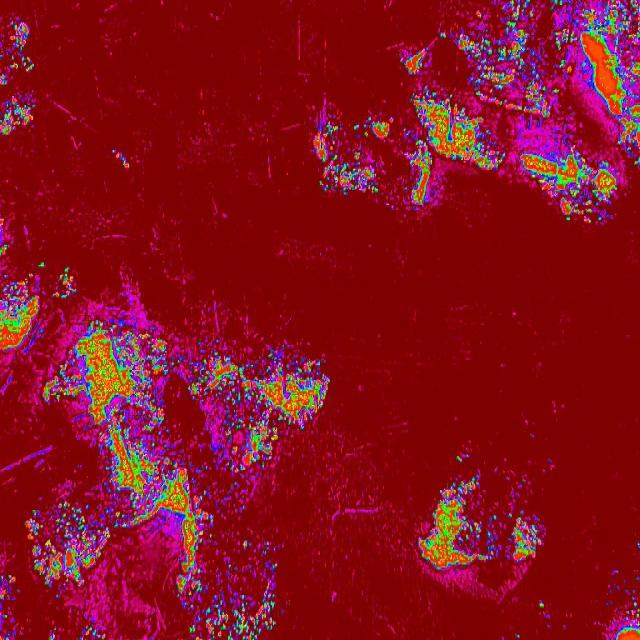fire: (0, 319, 278, 640), (399, 0, 640, 219), (418, 459, 547, 583), (311, 109, 398, 202), (0, 16, 41, 142), (0, 254, 77, 316), (278, 352, 335, 432)
